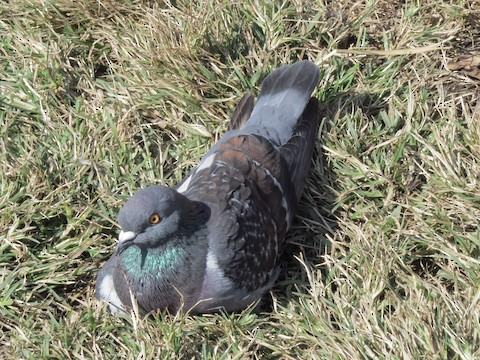pigeon: (87, 57, 327, 331)
